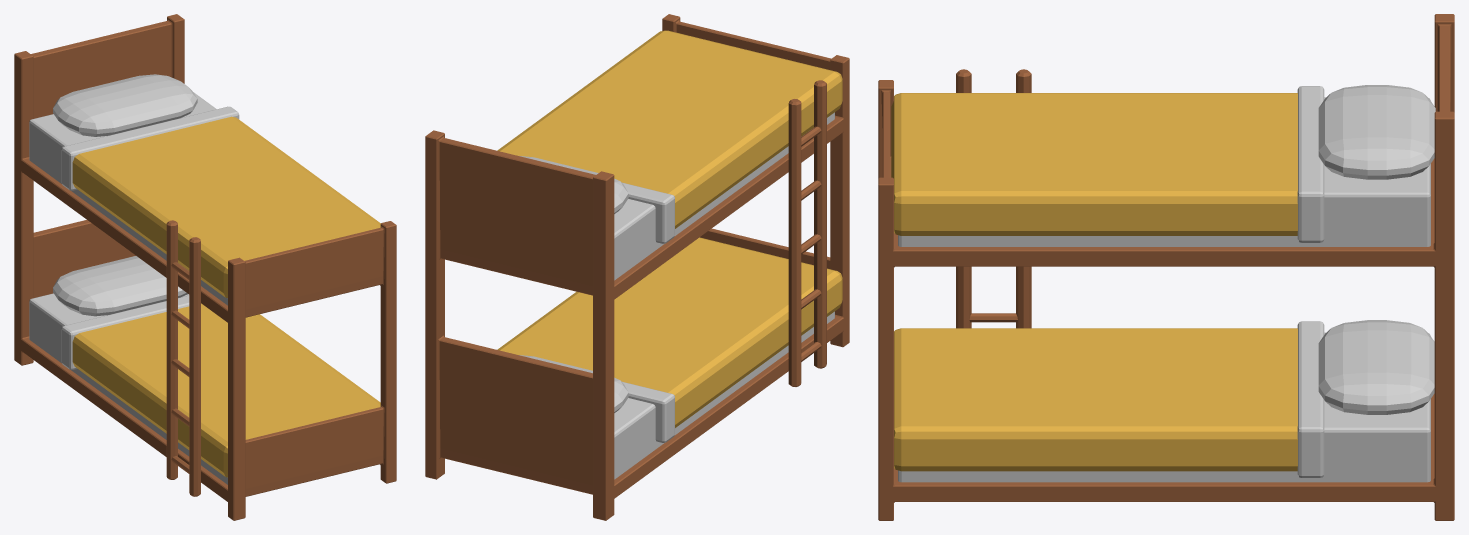
File: Bunk Bed.glb
The picture shows the model from 3 angles, left to right: view 1: azimuth 30°, elevation 25°; view 2: azimuth 150°, elevation 25°; view 3: azimuth 270°, elevation 25°; orthographic projection. The views are drawn at different scales.
Parts seen in each view (by area): view 1: Bunk bed; view 2: Bunk bed; view 3: Bunk bed.
Boxes of the visible parts, x1,y1,x2,y2 form: Bunk bed: (14,14,396,520); Bunk bed: (425,14,849,520); Bunk bed: (878,14,1454,520).
Size of the model in its own units: 519 by 857 by 1110.
